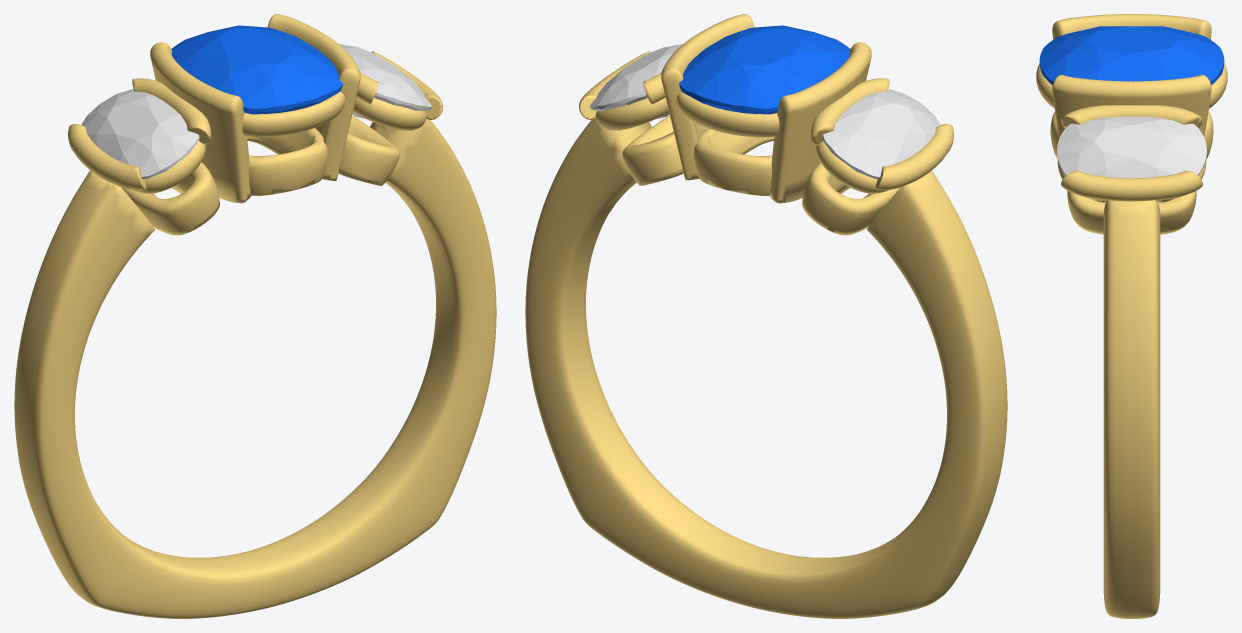
The model's file is bluesapphire-cushion-yellowgold-halfmoonbezel-europeanshank-3stone.glb.
3 renders of one model, left to right at view 1: azimuth 30°, elevation 25°; view 2: azimuth 150°, elevation 25°; view 3: azimuth 270°, elevation 25°, orthographic. The views are drawn at different scales.
Visible parts, largest first — view 1: metal.002, stone, side.001, side; view 2: metal.002, stone, side.001, side; view 3: metal.002, stone, side.
Boxes of the visible parts, box(x1,y1,x2,y2) form: metal.002: box(14, 14, 496, 618); stone: box(171, 25, 342, 114); side.001: box(81, 89, 199, 178); side: box(339, 44, 431, 118); metal.002: box(525, 14, 1007, 618); stone: box(679, 25, 850, 114); side.001: box(822, 89, 940, 178); side: box(590, 44, 682, 118); metal.002: box(1036, 14, 1227, 618); stone: box(1039, 26, 1224, 84); side: box(1057, 116, 1206, 178).
Bounding box in the file's own units: 20.11 × 23.04 × 7.42.
